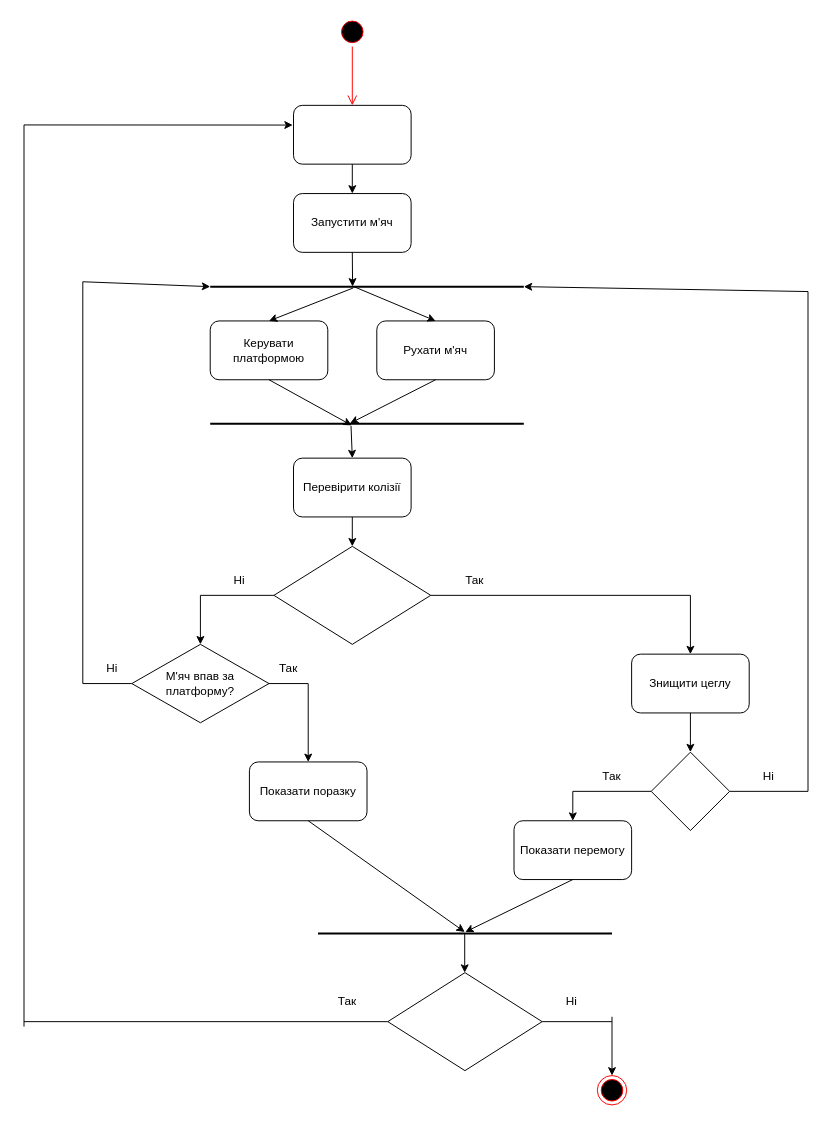
The diagram is 833 pixels wide and 1122 high, and some of its shapes have lost their labels. Each missing label, with the centre of its shape:
"Бажаєте перезапустити ігру?" goes at (464,1021).
"Всі цегли знижено?" goes at (690,791).
"Чи торкається м'я цегли?" goes at (352,594).
"Ініціалізувати гру" goes at (352,134).
